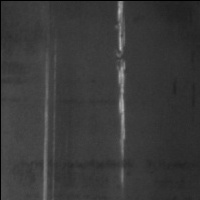scratches: (115, 3, 132, 188), (41, 46, 59, 200)
